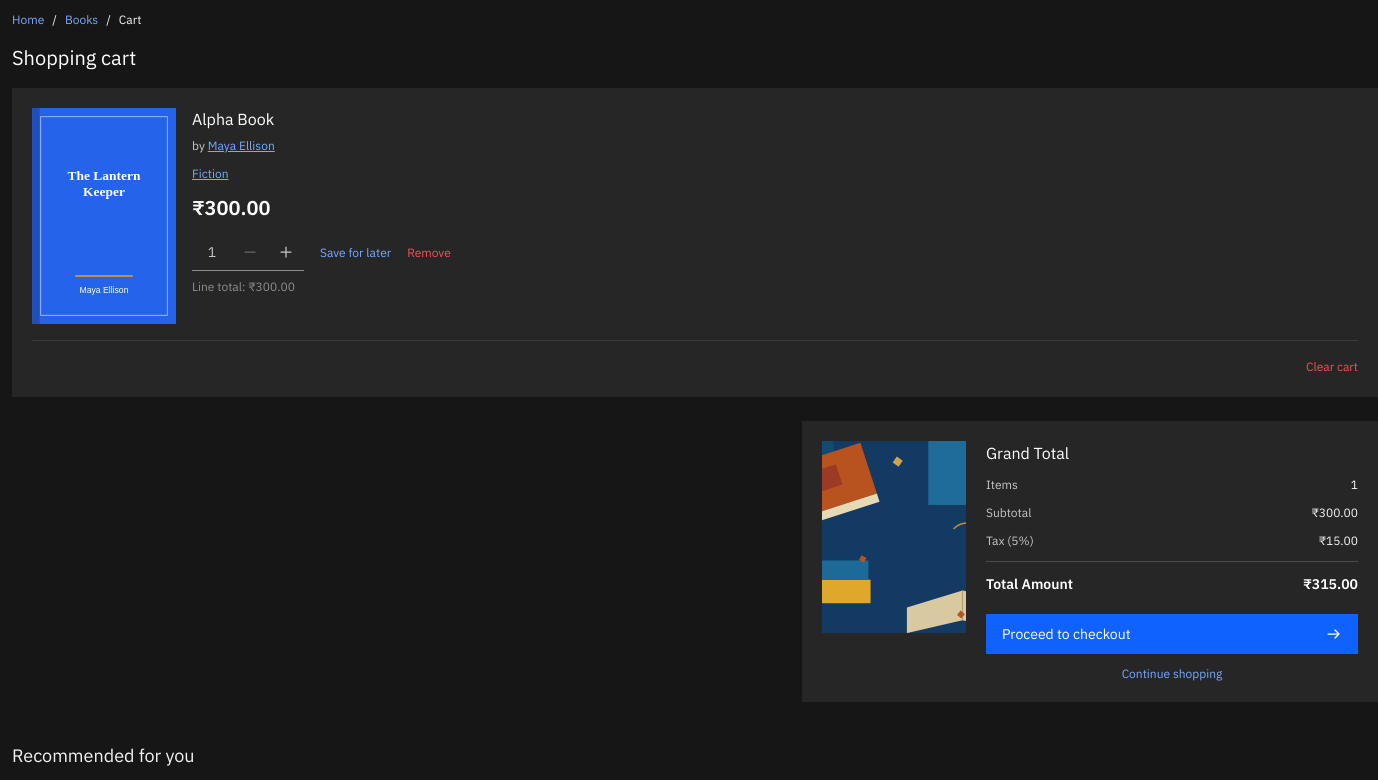
Scenario: CartPage › clears the cart
Step 1. Click the button "Clear cart" → {"x": 1332, "y": 367}, box [1306,359,1358,375]
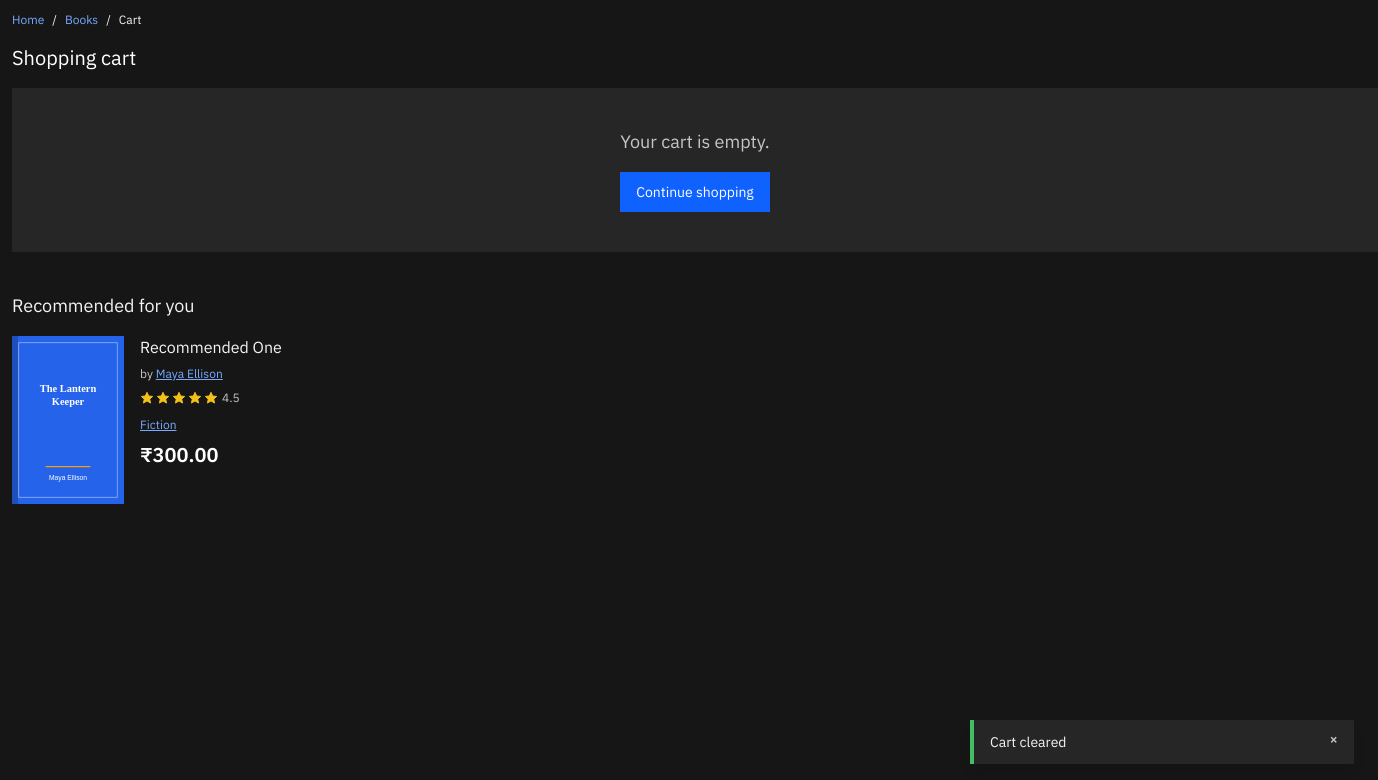
expect the text "Your cart is empty." is shown: met, box [620,130,770,153]
